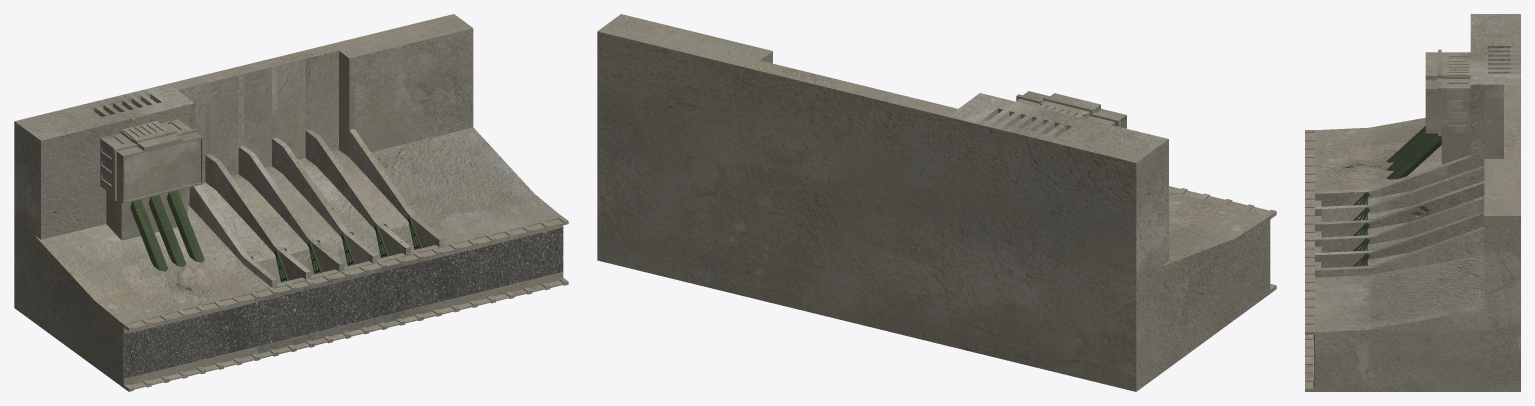
The model's file is gravity_dam.obj.
3 views of the same model, side by side, from view 1: azimuth 30°, elevation 25°; view 2: azimuth 150°, elevation 25°; view 3: azimuth 270°, elevation 25° (orthographic). The views are drawn at different scales.
Visible parts, largest first — view 1: part_7, part_5, part_6, part_8, part_10, part_9; view 2: part_7, part_8, part_6; view 3: part_7, part_8, part_6, part_10, part_9.
Part boxes in pixels (box(x1,y1,x2,y2)): part_7: box(14, 14, 562, 387); part_5: box(124, 227, 563, 378); part_6: box(123, 217, 568, 391); part_8: box(100, 119, 203, 240); part_10: box(130, 190, 204, 271); part_9: box(102, 123, 197, 200); part_7: box(597, 14, 1270, 391); part_8: box(1016, 91, 1126, 128); part_6: box(1169, 186, 1276, 293); part_7: box(1315, 14, 1520, 391); part_8: box(1425, 52, 1470, 164); part_6: box(1305, 130, 1314, 391); part_10: box(1386, 126, 1441, 179); part_9: box(1438, 49, 1468, 135).
Bounding box in the file's own units: 29.3 × 11.9 × 13.22.
6 materials, 6 textured.
